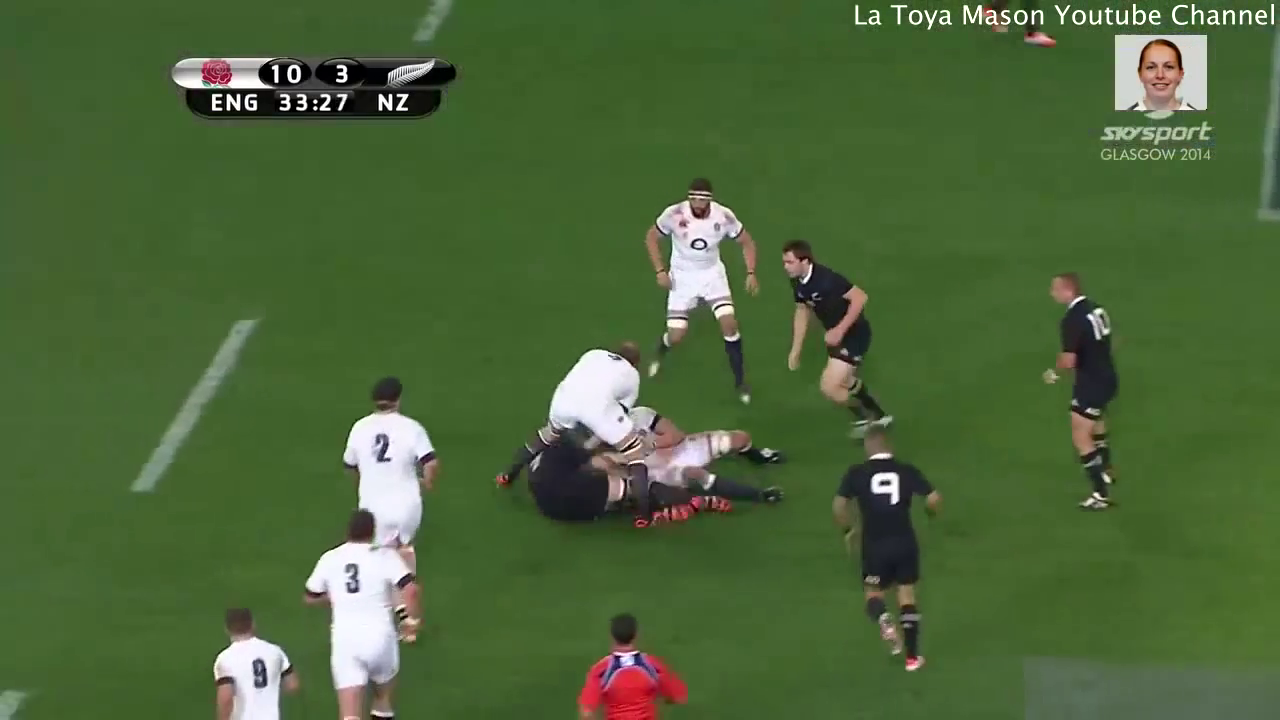player: (490, 342, 657, 526), (641, 174, 768, 412), (1029, 268, 1145, 524), (834, 425, 950, 676), (772, 237, 913, 439), (301, 504, 418, 720), (345, 380, 438, 552), (571, 607, 689, 720), (636, 421, 793, 504), (202, 605, 301, 720), (529, 439, 640, 520)
ruck: (494, 357, 777, 520)
